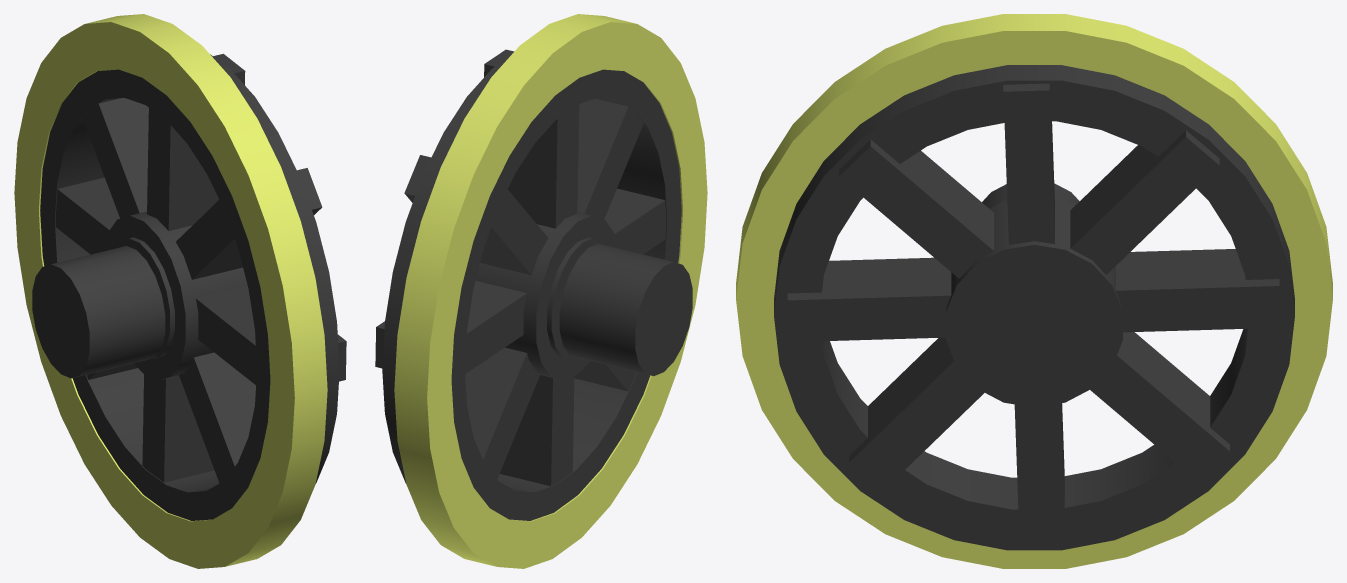
The model's file is Loc_r5.fbx.
3 views of the same model, side by side, from view 1: azimuth 30°, elevation 25°; view 2: azimuth 150°, elevation 25°; view 3: azimuth 270°, elevation 25° (orthographic). The views are drawn at different scales.
Parts seen in each view (by area): view 1: Tube006; view 2: Tube006; view 3: Tube006.
Boxes of the visible parts, x1,y1,x2,y2 form: Tube006: (14,14,346,568); Tube006: (375,14,707,568); Tube006: (736,14,1332,568).
Size of the model in its own units: 228 by 619 by 622.
